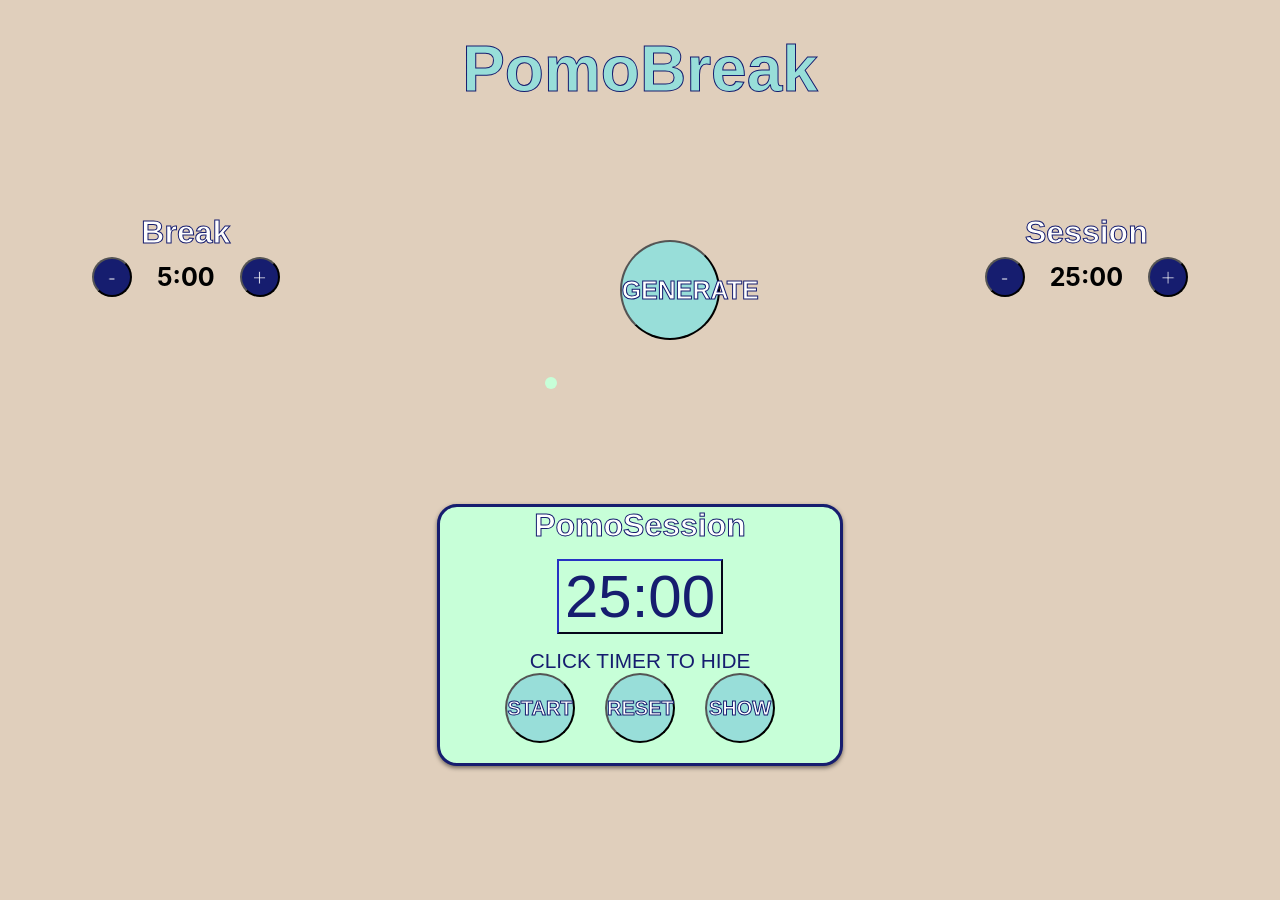
Test: Start Button Test: Renders as Stop After Click
This screenshot has width=1280, height=900.
Click the button with id "start-stop" at (540, 708), box [505,673,575,743]
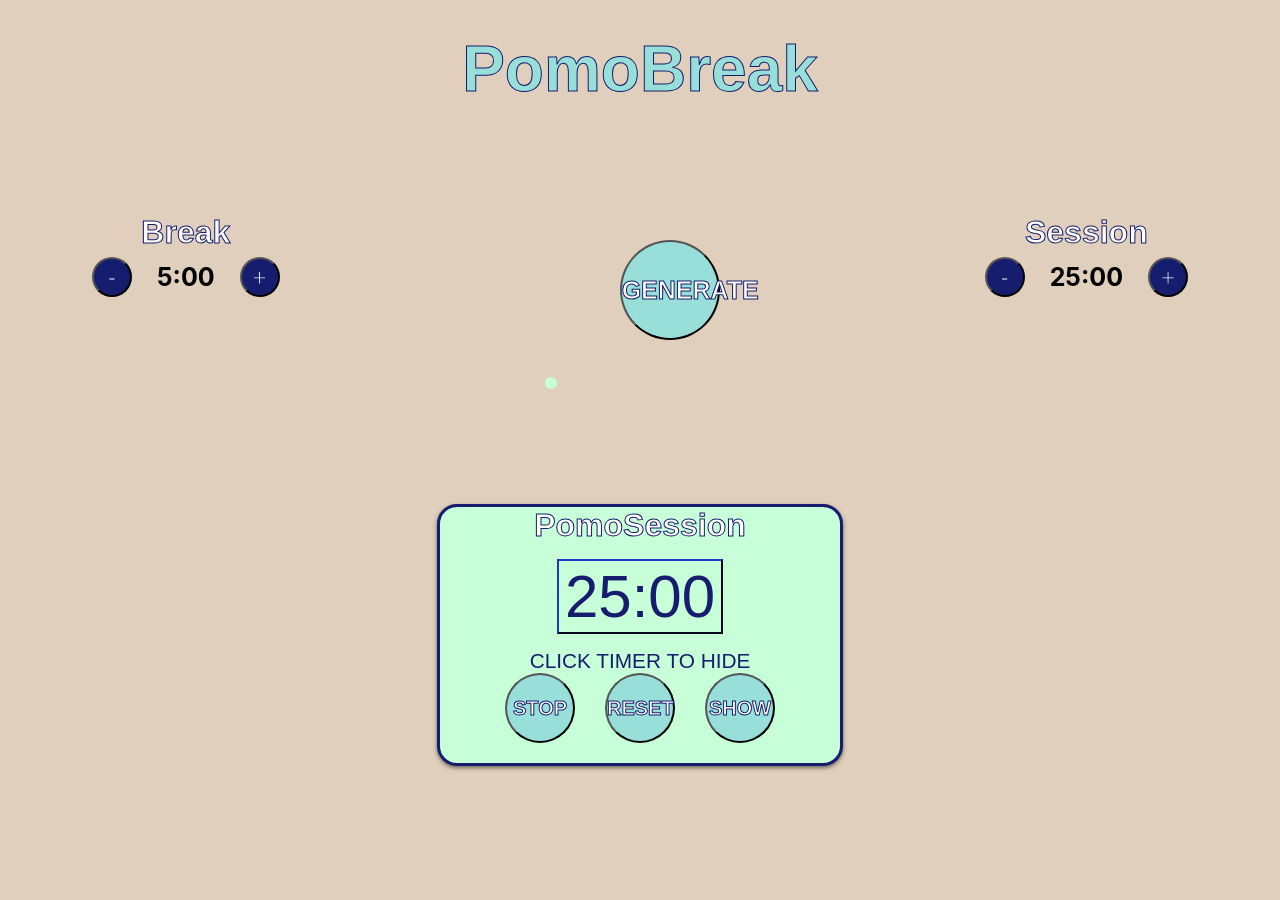
Check: the button with id "start-stop" reads "Stop", box [505,673,575,743]
